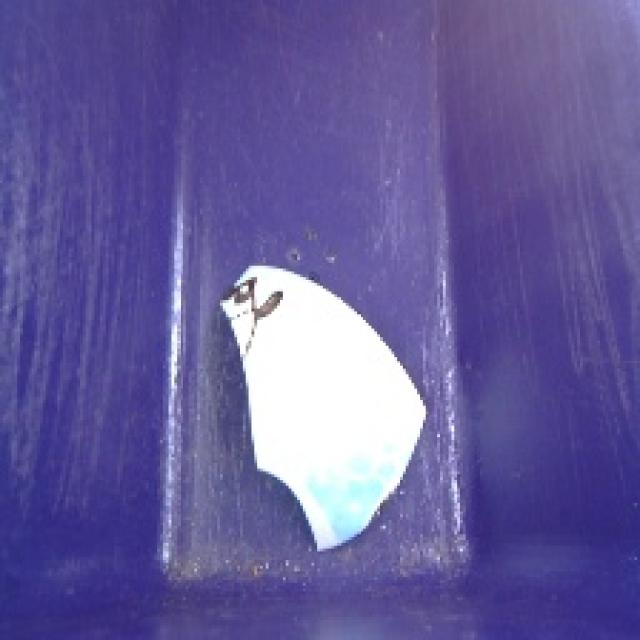china: (210, 257, 434, 561)
